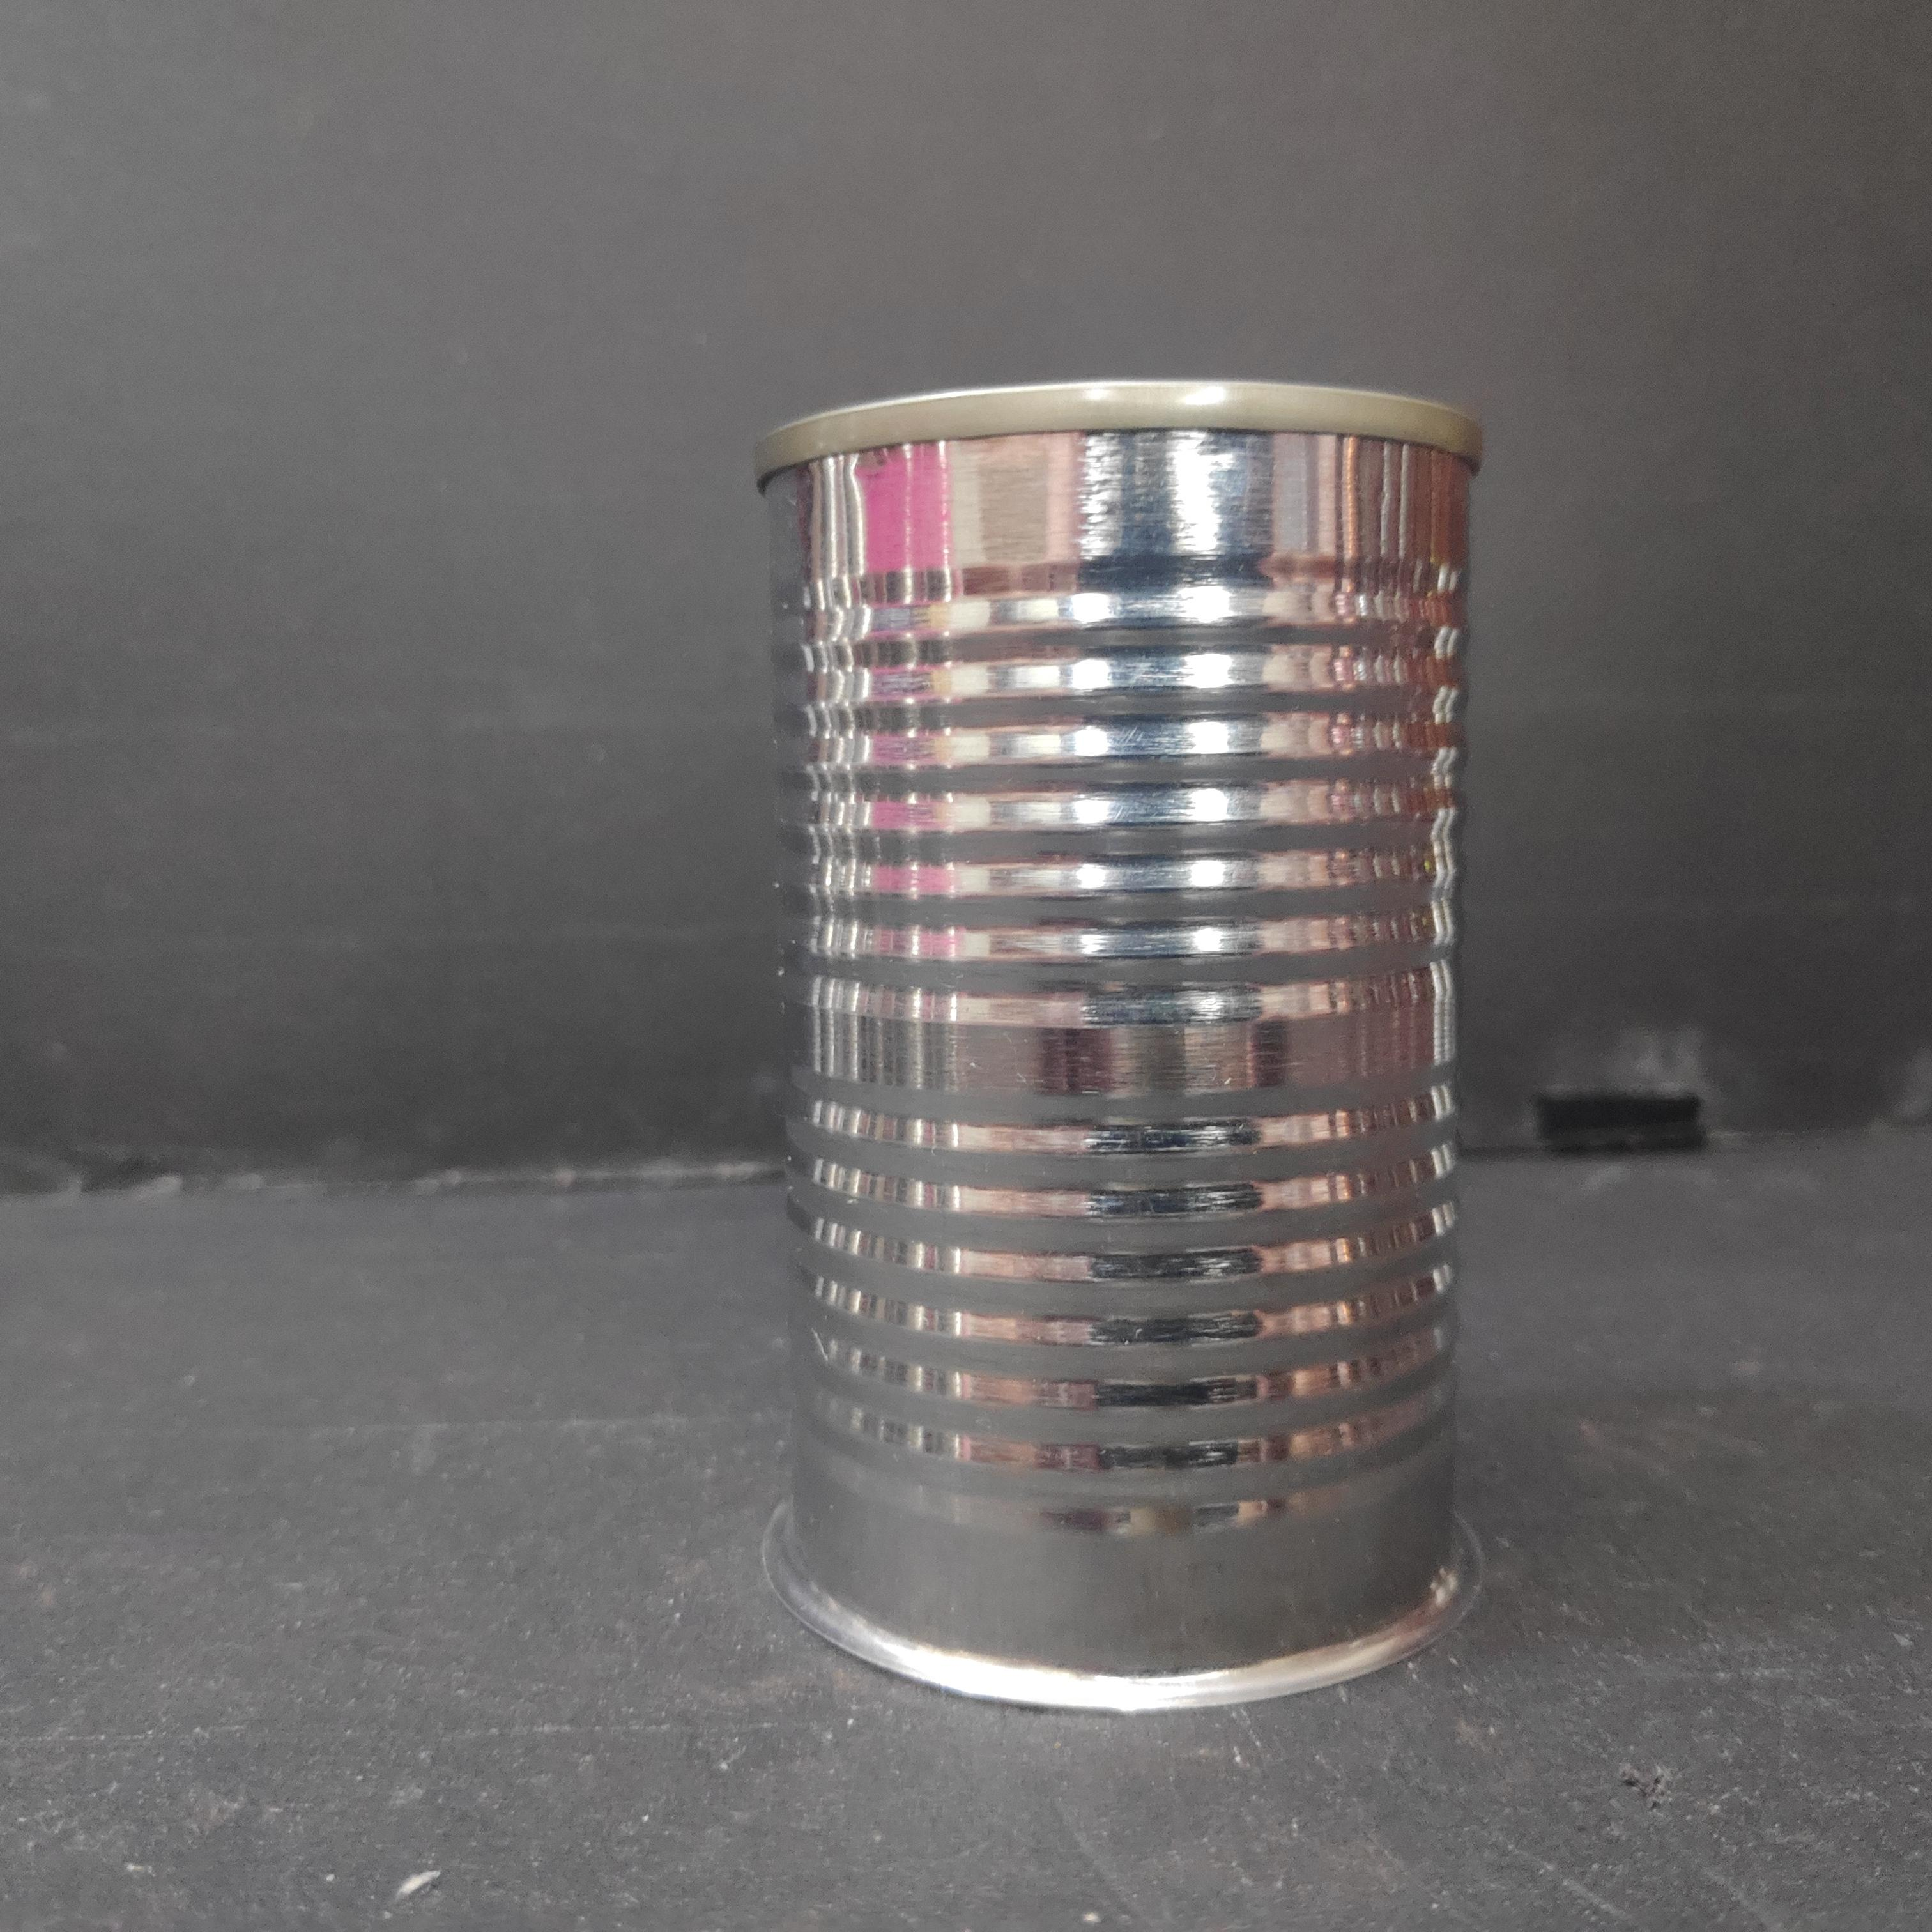No defect: (755, 377, 1504, 1714)
